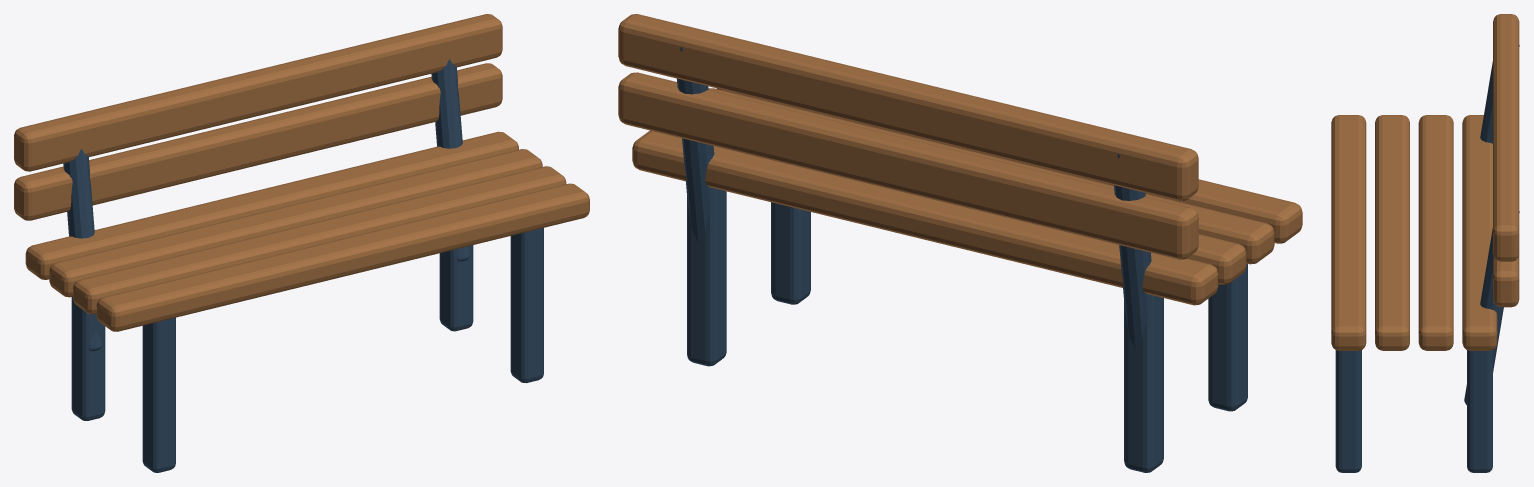
The model's file is SM_Bench.fbx.
3 renders of one model, left to right at view 1: azimuth 30°, elevation 25°; view 2: azimuth 150°, elevation 25°; view 3: azimuth 270°, elevation 25°, orthographic. The views are drawn at different scales.
Parts seen in each view (by area): view 1: Wooden back slat.001, Wooden back slat, Wooden seat slat, Wooden seat slat.001, Wooden seat slat.002, Wooden seat slat.003, Bench steel leg.002, Bench steel leg, Bench steel leg.001, Bench steel leg.003, Bench back support, Bench back support.001; view 2: Wooden back slat.001, Wooden back slat, Wooden seat slat.003, Bench steel leg.003, Bench steel leg.001, Bench steel leg, Wooden seat slat.001, Wooden seat slat, Bench steel leg.002, Bench back support, Bench back support.001, Wooden seat slat.002; view 3: Wooden seat slat, Wooden seat slat.002, Wooden seat slat.001, Wooden seat slat.003, Wooden back slat.001, Bench steel leg.002, Bench steel leg.003, Wooden back slat, Bench back support.001, Bench back support.
Boxes of the visible parts, x1,y1,x2,y2 form: Wooden back slat.001: (14,14,502,171); Wooden back slat: (14,63,502,220); Wooden seat slat: (96,183,589,331); Wooden seat slat.001: (73,166,566,314); Wooden seat slat.002: (49,149,542,297); Wooden seat slat.003: (25,131,518,279); Bench steel leg.002: (510,228,543,383); Bench steel leg: (142,317,175,472); Bench steel leg.001: (71,296,105,420); Bench steel leg.003: (439,245,473,331); Bench back support: (63,149,101,351); Bench back support.001: (431,59,469,261); Wooden back slat.001: (618,14,1198,201); Wooden back slat: (618,72,1198,259); Wooden seat slat.003: (632,130,1218,305); Bench steel leg.003: (687,188,726,366); Bench steel leg.001: (1124,294,1163,472); Bench steel leg: (1208,263,1247,411); Wooden seat slat.001: (708,88,1274,264); Wooden seat slat: (716,88,1302,243); Bench steel leg.002: (771,202,810,304); Bench back support: (1114,153,1151,349); Bench back support.001: (677,46,714,242); Wooden seat slat.002: (1187,234,1246,284); Wooden seat slat: (1331,115,1366,350); Wooden seat slat.002: (1418,115,1453,350); Wooden seat slat.001: (1375,115,1409,350); Wooden seat slat.003: (1462,115,1497,350); Wooden back slat.001: (1493,14,1519,261); Bench steel leg.002: (1335,350,1361,472); Bench steel leg.003: (1467,350,1492,472); Wooden back slat: (1493,255,1519,307); Bench back support.001: (1464,211,1519,404); Bench back support: (1480,45,1519,143).
Bounding box in the file's own units: 2.35 × 1.34 × 0.8617.
